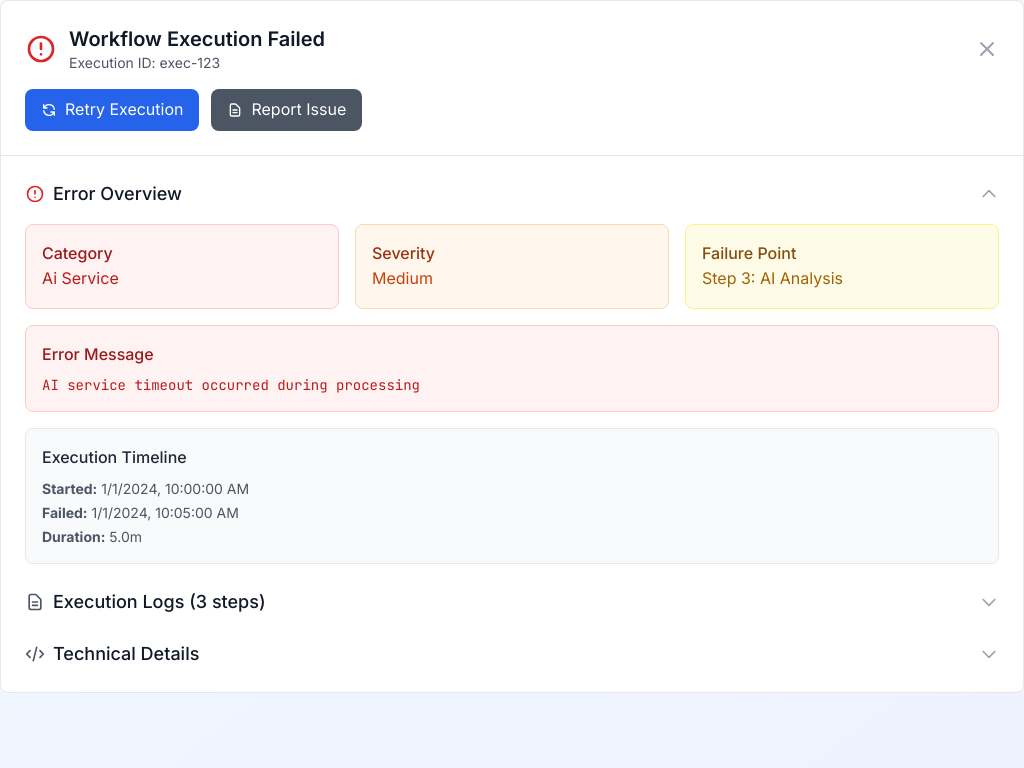
Test: WorkflowErrorDisplay › expands and collapses error sections
Expected: the heading "Category" is shown, [42, 243, 113, 263]
# Collapse error overview
What coordinates should you click on to do the following:
click the button "Error Overview"
I would click on:
 (118, 193)
Its box is [25, 180, 999, 208].
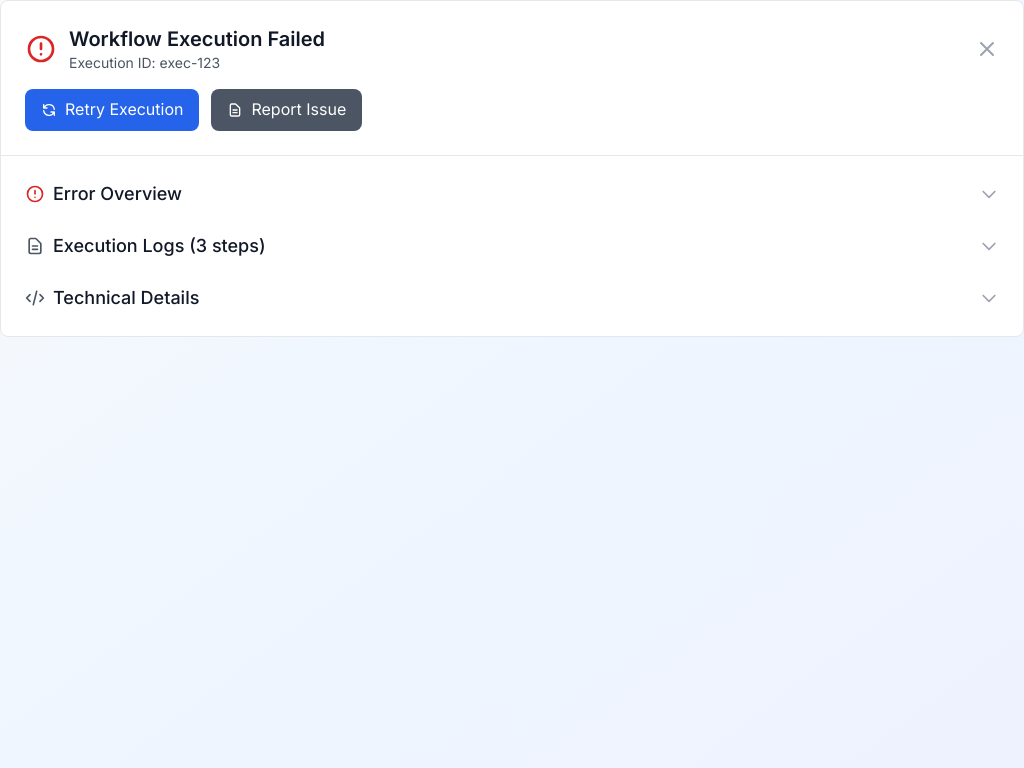
Expected: the heading "Category" is gone
# Expand it again
What coordinates should you click on to do the following:
click the button "Error Overview"
I would click on:
 (118, 193)
Its box is [25, 180, 999, 208].
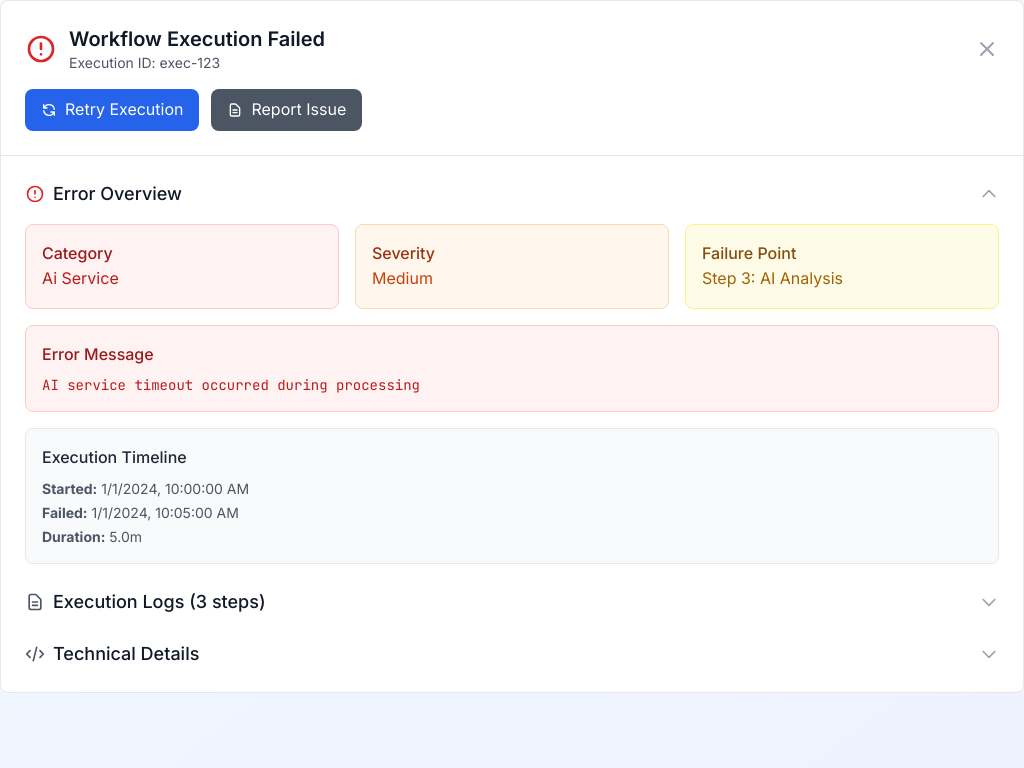
Expected: the heading "Category" is shown, [42, 243, 113, 263]
